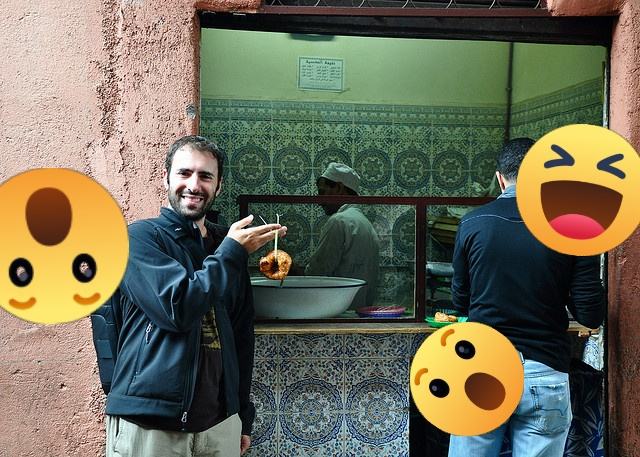haha: (516, 124, 640, 256)
wow: (0, 168, 129, 324), (410, 322, 524, 436)
